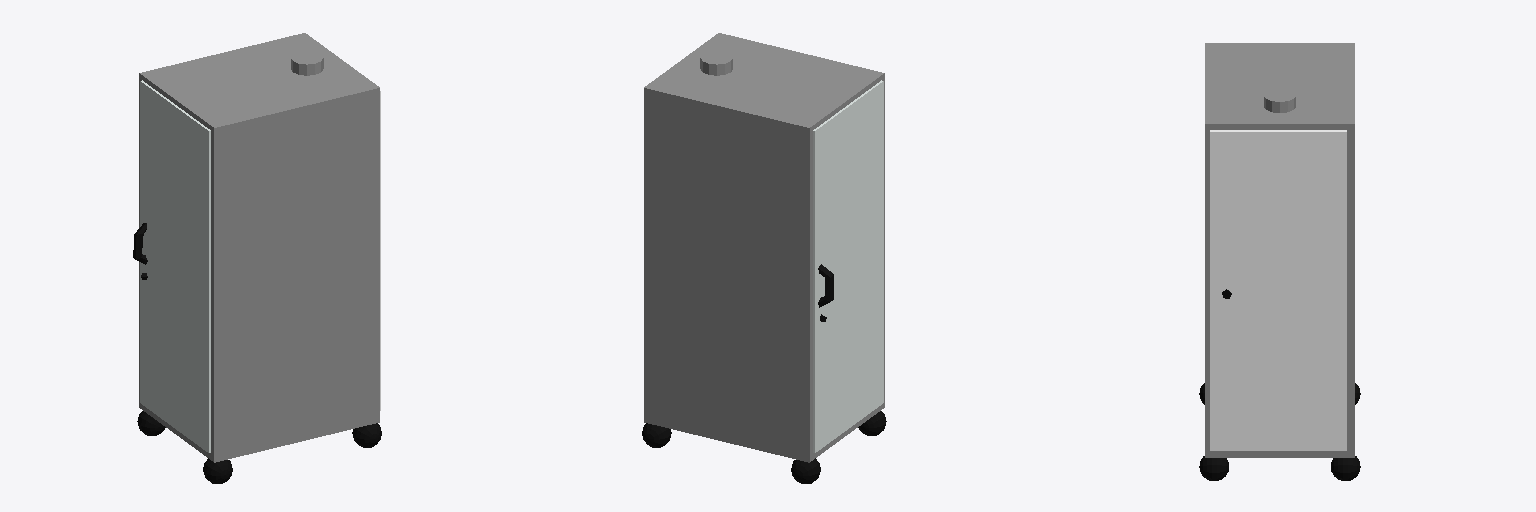
3 renders of one model, left to right at view 1: azimuth 30°, elevation 25°; view 2: azimuth 150°, elevation 25°; view 3: azimuth 270°, elevation 25°, orthographic.
Parts seen in each view (by area): view 1: group[number redacted]; view 2: group[number redacted]; view 3: group[number redacted].
Boxes of the visible parts, x1=… form: group[number redacted]: x1=133, y1=33, x2=381, y2=483; group[number redacted]: x1=642, y1=33, x2=886, y2=483; group[number redacted]: x1=1199, y1=43, x2=1360, y2=480.
Bounding box in the file's own units: 0.7833 × 1.5 × 0.59.